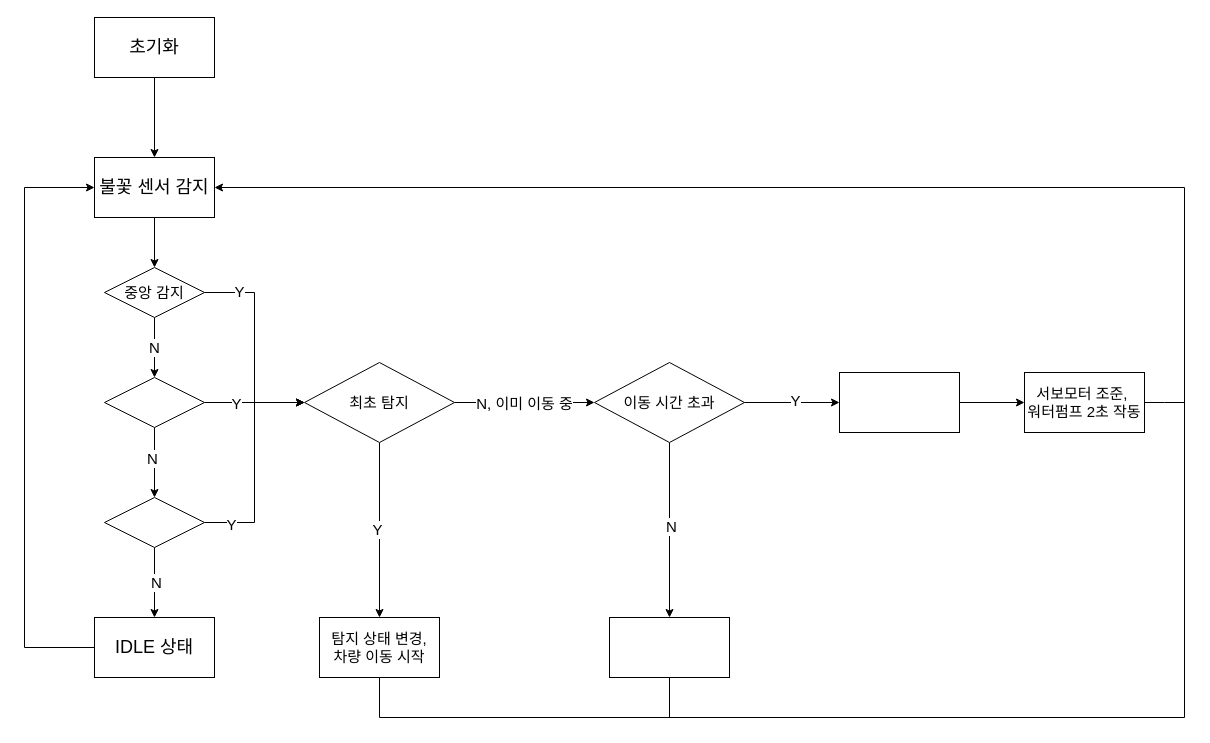
Some shapes in this 1210 by 743 pixel diagram are drawn without their labels. The centre of each missing label's shape, as x and y in pixels:
"오른쪽 감지" goes at point (154, 522).
"왼쪽 감지" goes at point (154, 402).
"이동 지속" goes at point (669, 647).
"차량 정지 및 화재 시스템 가동" goes at point (899, 402).
